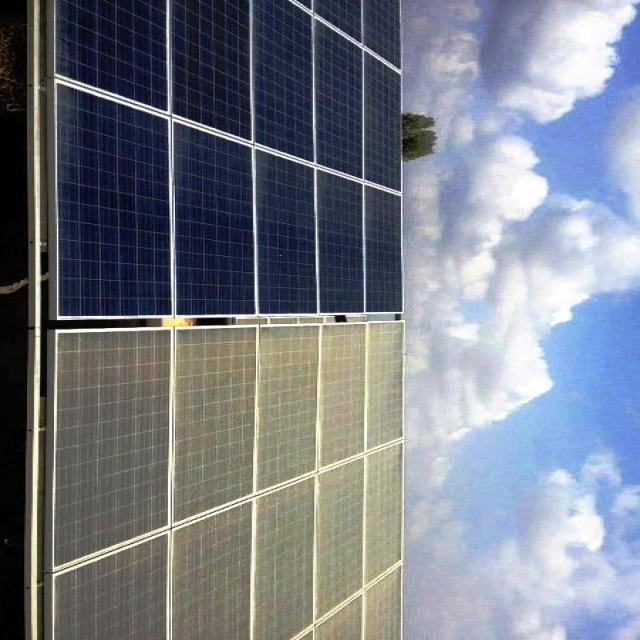faulty: (52, 326, 172, 568), (170, 322, 252, 524), (254, 320, 322, 498), (255, 476, 328, 634), (165, 510, 255, 638), (312, 457, 372, 628), (54, 550, 165, 636), (314, 321, 372, 474), (358, 436, 412, 591), (359, 318, 412, 453)
no faulty: (50, 79, 179, 324), (171, 115, 259, 321), (249, 144, 327, 322), (248, 2, 328, 160), (49, 3, 190, 92), (170, 2, 268, 128), (312, 13, 378, 180), (312, 164, 372, 318), (361, 48, 416, 195), (362, 181, 409, 313)
